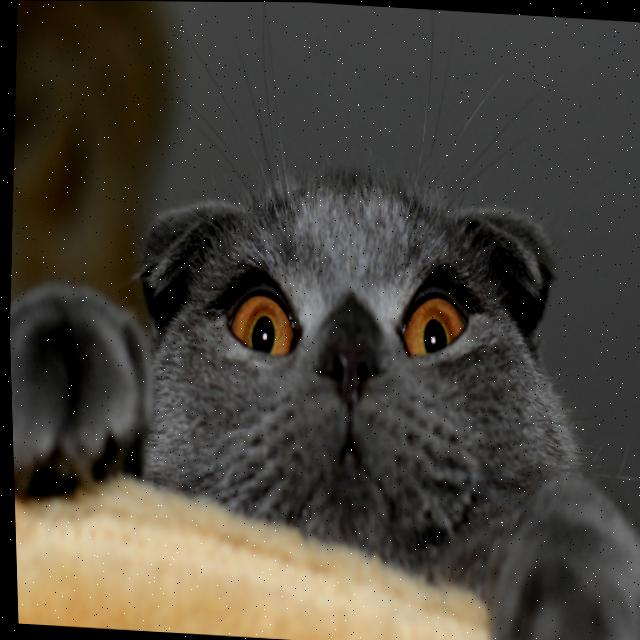Scottish Fold: (3, 124, 640, 640)
